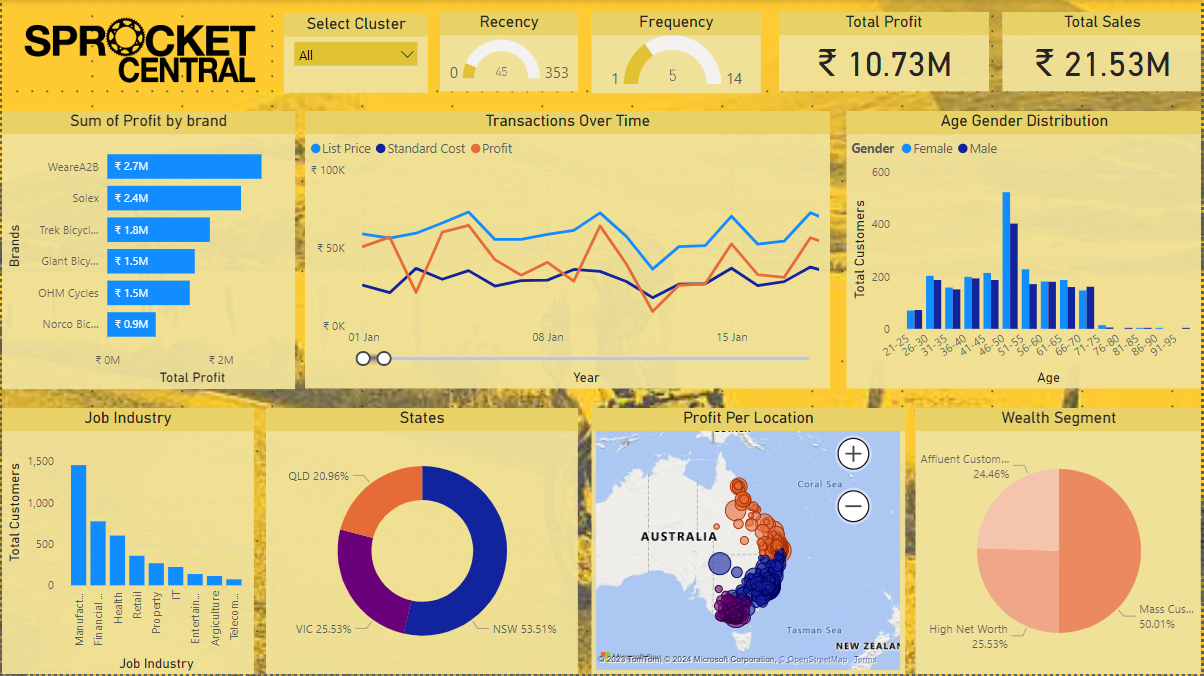

This screenshot's page, from the dashboard's own definition file:
{"tool":"powerbi","page":{"name":"Previous Customers Analysis","canvas":[1280,720],"ordinal":0},"visuals":[{"type":"image","box":[0,12.8,300.8,97.6],"z":0},{"type":"clusteredColumnChart","title":"Job Industry","fields":{"Category":["Previous Customers Demographics.job_industry_category"],"Y":["CountNonNull(Previous Customers Demographics.job_industry_category)"]},"box":[0,435.2,268.8,284.8],"z":1000},{"type":"clusteredColumnChart","title":"Age Gender Distribution","fields":{"Category":["Previous Customers Demographics.Age Bins"],"Y":["CountNonNull(Previous Customers Demographics.Age Bins)"],"Series":["Previous Customers Demographics.gender"]},"box":[900.8,118.4,379.2,296],"z":2000},{"type":"donutChart","title":"States","fields":{"Category":["Previous Customers Address.state"],"Y":["CountNonNull(Previous Customers Address.state)"]},"box":[281.6,435.2,332.8,284.8],"z":3000},{"type":"map","title":"Profit Per Location","fields":{"Y":["australian_postcodes.lat"],"X":["australian_postcodes.long"],"Size":["Sum(Previous Customers Transactions.Profit)"],"Category":["Previous Customers Address.country","australian_postcodes.state","australian_postcodes.sa4name","australian_postcodes.sa3name","australian_postcodes.SA2_NAME_2016"],"Series":["Previous Customers Address.state"]},"box":[628.8,435.2,334.4,284.8],"z":4000},{"type":"lineChart","title":"Transactions Over Time","fields":{"Category":["Previous Customers Transactions.transaction_date.Variation.Date Hierarchy.Year","Previous Customers Transactions.transaction_date.Variation.Date Hierarchy.Quarter","Previous Customers Transactions.transaction_date.Variation.Date Hierarchy.Month","Previous Customers Transactions.transaction_date.Variation.Date Hierarchy.Day"],"Y":["Sum(Previous Customers Transactions.list_price)","Sum(Previous Customers Transactions.standard_cost)"],"Y2":["Sum(Previous Customers Transactions.Profit)"]},"box":[323.2,118.4,560,296],"z":5000},{"type":"barChart","fields":{"Category":["Previous Customers Transactions.brand"],"Y":["Sum(Previous Customers Transactions.Profit)"]},"box":[0,117.9,312.6,296.7],"z":6000},{"type":"card","title":"Total Profit","fields":{"Values":["Sum(Previous Customers Transactions.Profit)"]},"box":[828.8,12.8,224,84.8],"z":7000},{"type":"card","title":"Total Sales","fields":{"Values":["Sum(Previous Customers Transactions.list_price)"]},"box":[1067.2,12.8,212.8,84.8],"z":8000},{"type":"slicer","title":"Select Cluster","fields":{"Values":["RFM Score and Cluster.Cluster"]},"box":[300.8,14.4,153.6,84.8],"z":9000},{"type":"gauge","title":"Recency","fields":{"Y":["Median(RFM Score and Cluster.Recency)"],"MinValue":["Min(RFM Score and Cluster.Recency)"],"MaxValue":["Max(RFM Score and Cluster.Recency)"]},"box":[467.2,12.8,147.2,84.8],"z":10000},{"type":"pieChart","title":"Wealth Segment","fields":{"Category":["Demographics.wealth_segment"],"Y":["CountNonNull(Demographics.wealth_segment)"]},"box":[974.4,435.2,305.6,284.8],"z":11000},{"type":"gauge","title":"Frequency","fields":{"Y":["Median(RFM Score and Cluster.Frequency)"],"MinValue":["Min(RFM Score and Cluster.Frequency)1"],"MaxValue":["Max(RFM Score and Cluster.Frequency)2"]},"box":[628.8,12.8,180.8,86.4],"z":12000}]}

Visuals, with their boxes in screenshot pixels (x1, y1, x2, y2), scaled from the page's 1280x720 canvas onto the 1204x676 screenshot:
image: [0,12,283,104]
"Job Industry" clusteredColumnChart: [0,409,253,675]
"Age Gender Distribution" clusteredColumnChart: [847,111,1203,389]
"States" donutChart: [265,409,578,675]
"Profit Per Location" map: [591,409,906,675]
"Transactions Over Time" lineChart: [304,111,831,389]
barChart - Previous Customers Transactions.brand x Sum(Previous Customers Transactions.Profit): [0,111,294,389]
"Total Profit" card: [780,12,990,92]
"Total Sales" card: [1004,12,1203,92]
"Select Cluster" slicer: [283,14,427,93]
"Recency" gauge: [439,12,578,92]
"Wealth Segment" pieChart: [917,409,1203,675]
"Frequency" gauge: [591,12,762,93]
